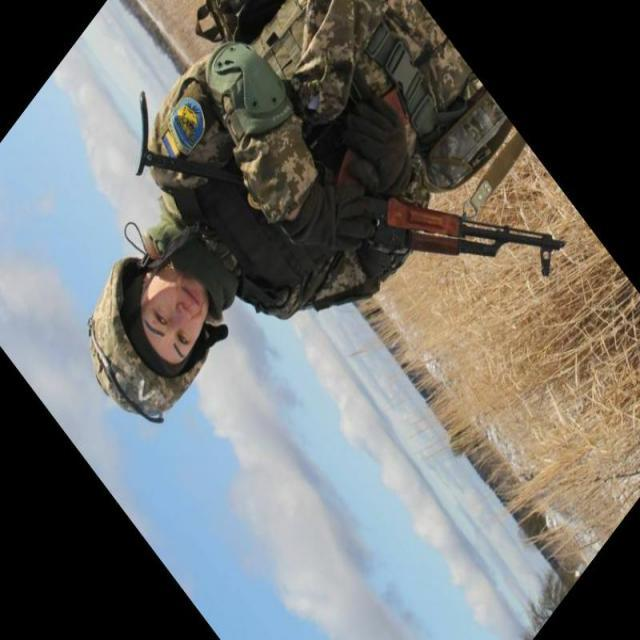weapon: (137, 89, 568, 278)
